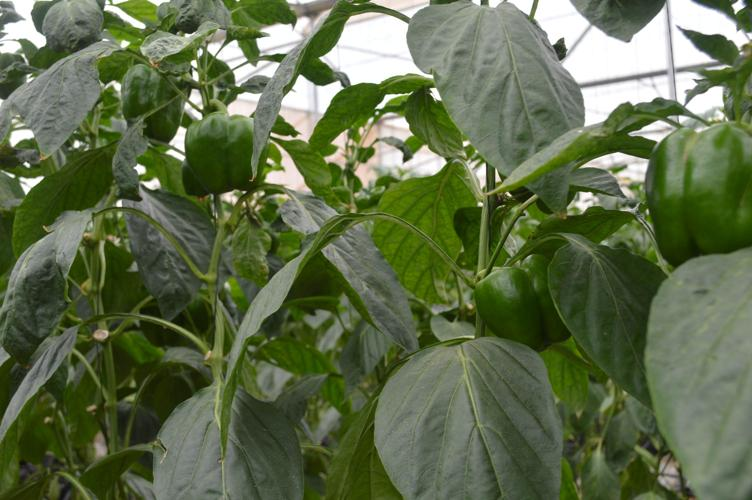BellPepper: (635, 121, 748, 254), (465, 256, 570, 346), (181, 110, 260, 189), (115, 66, 183, 141)
